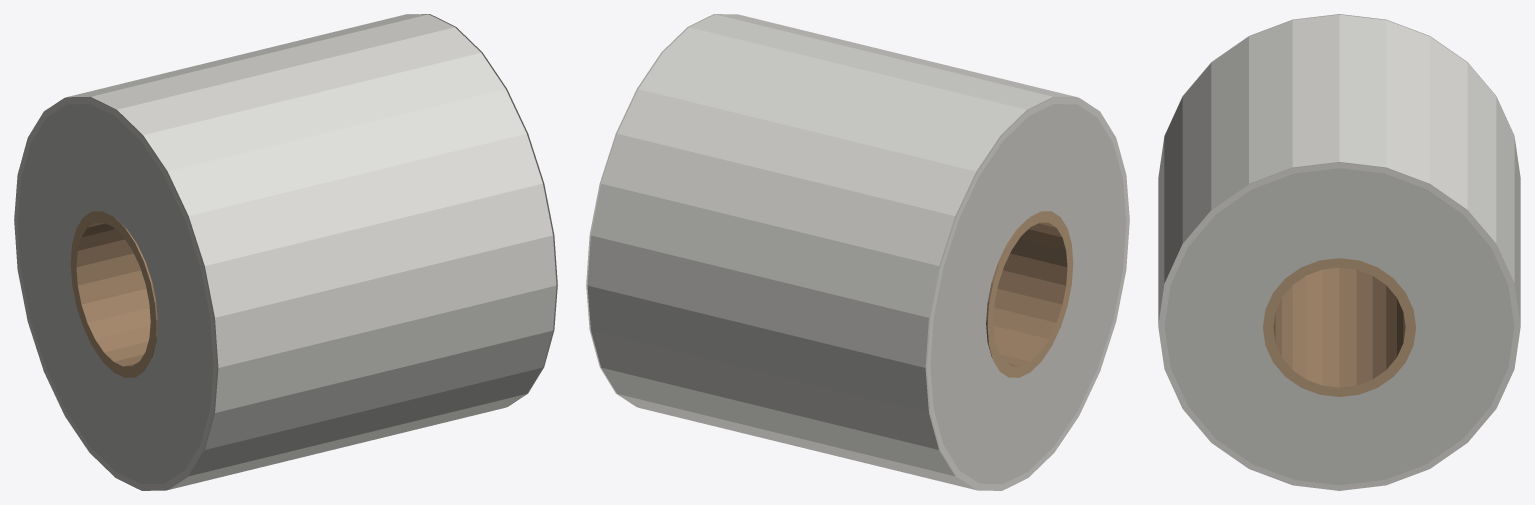
Rendered from 09_toilet_paper_roll_h.glb.
3 views of the same model, side by side, from view 1: azimuth 30°, elevation 25°; view 2: azimuth 150°, elevation 25°; view 3: azimuth 270°, elevation 25° (orthographic). The views are drawn at different scales.
Parts seen in each view (by area): view 1: cardboard_core_interior; view 2: cardboard_core_interior; view 3: cardboard_core_interior.
Part boxes in pixels (box(x1,y1,x2,y2)): cardboard_core_interior: box(14, 14, 557, 490); cardboard_core_interior: box(586, 14, 1129, 490); cardboard_core_interior: box(1158, 14, 1520, 490).
Size of the model in its own units: 0.102 by 0.104 by 0.104.
